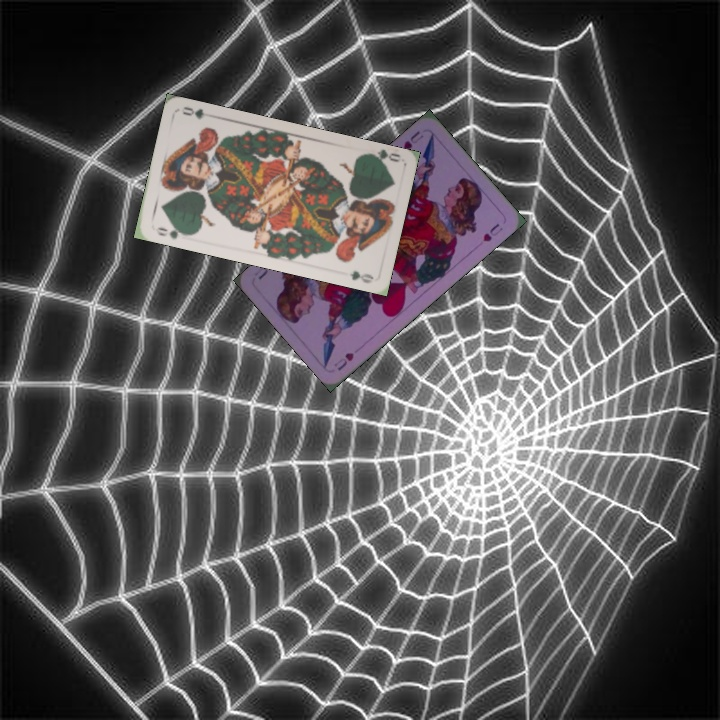GO: (361, 146, 403, 167), (152, 221, 191, 241)
HU: (399, 127, 426, 152), (330, 348, 357, 373)
